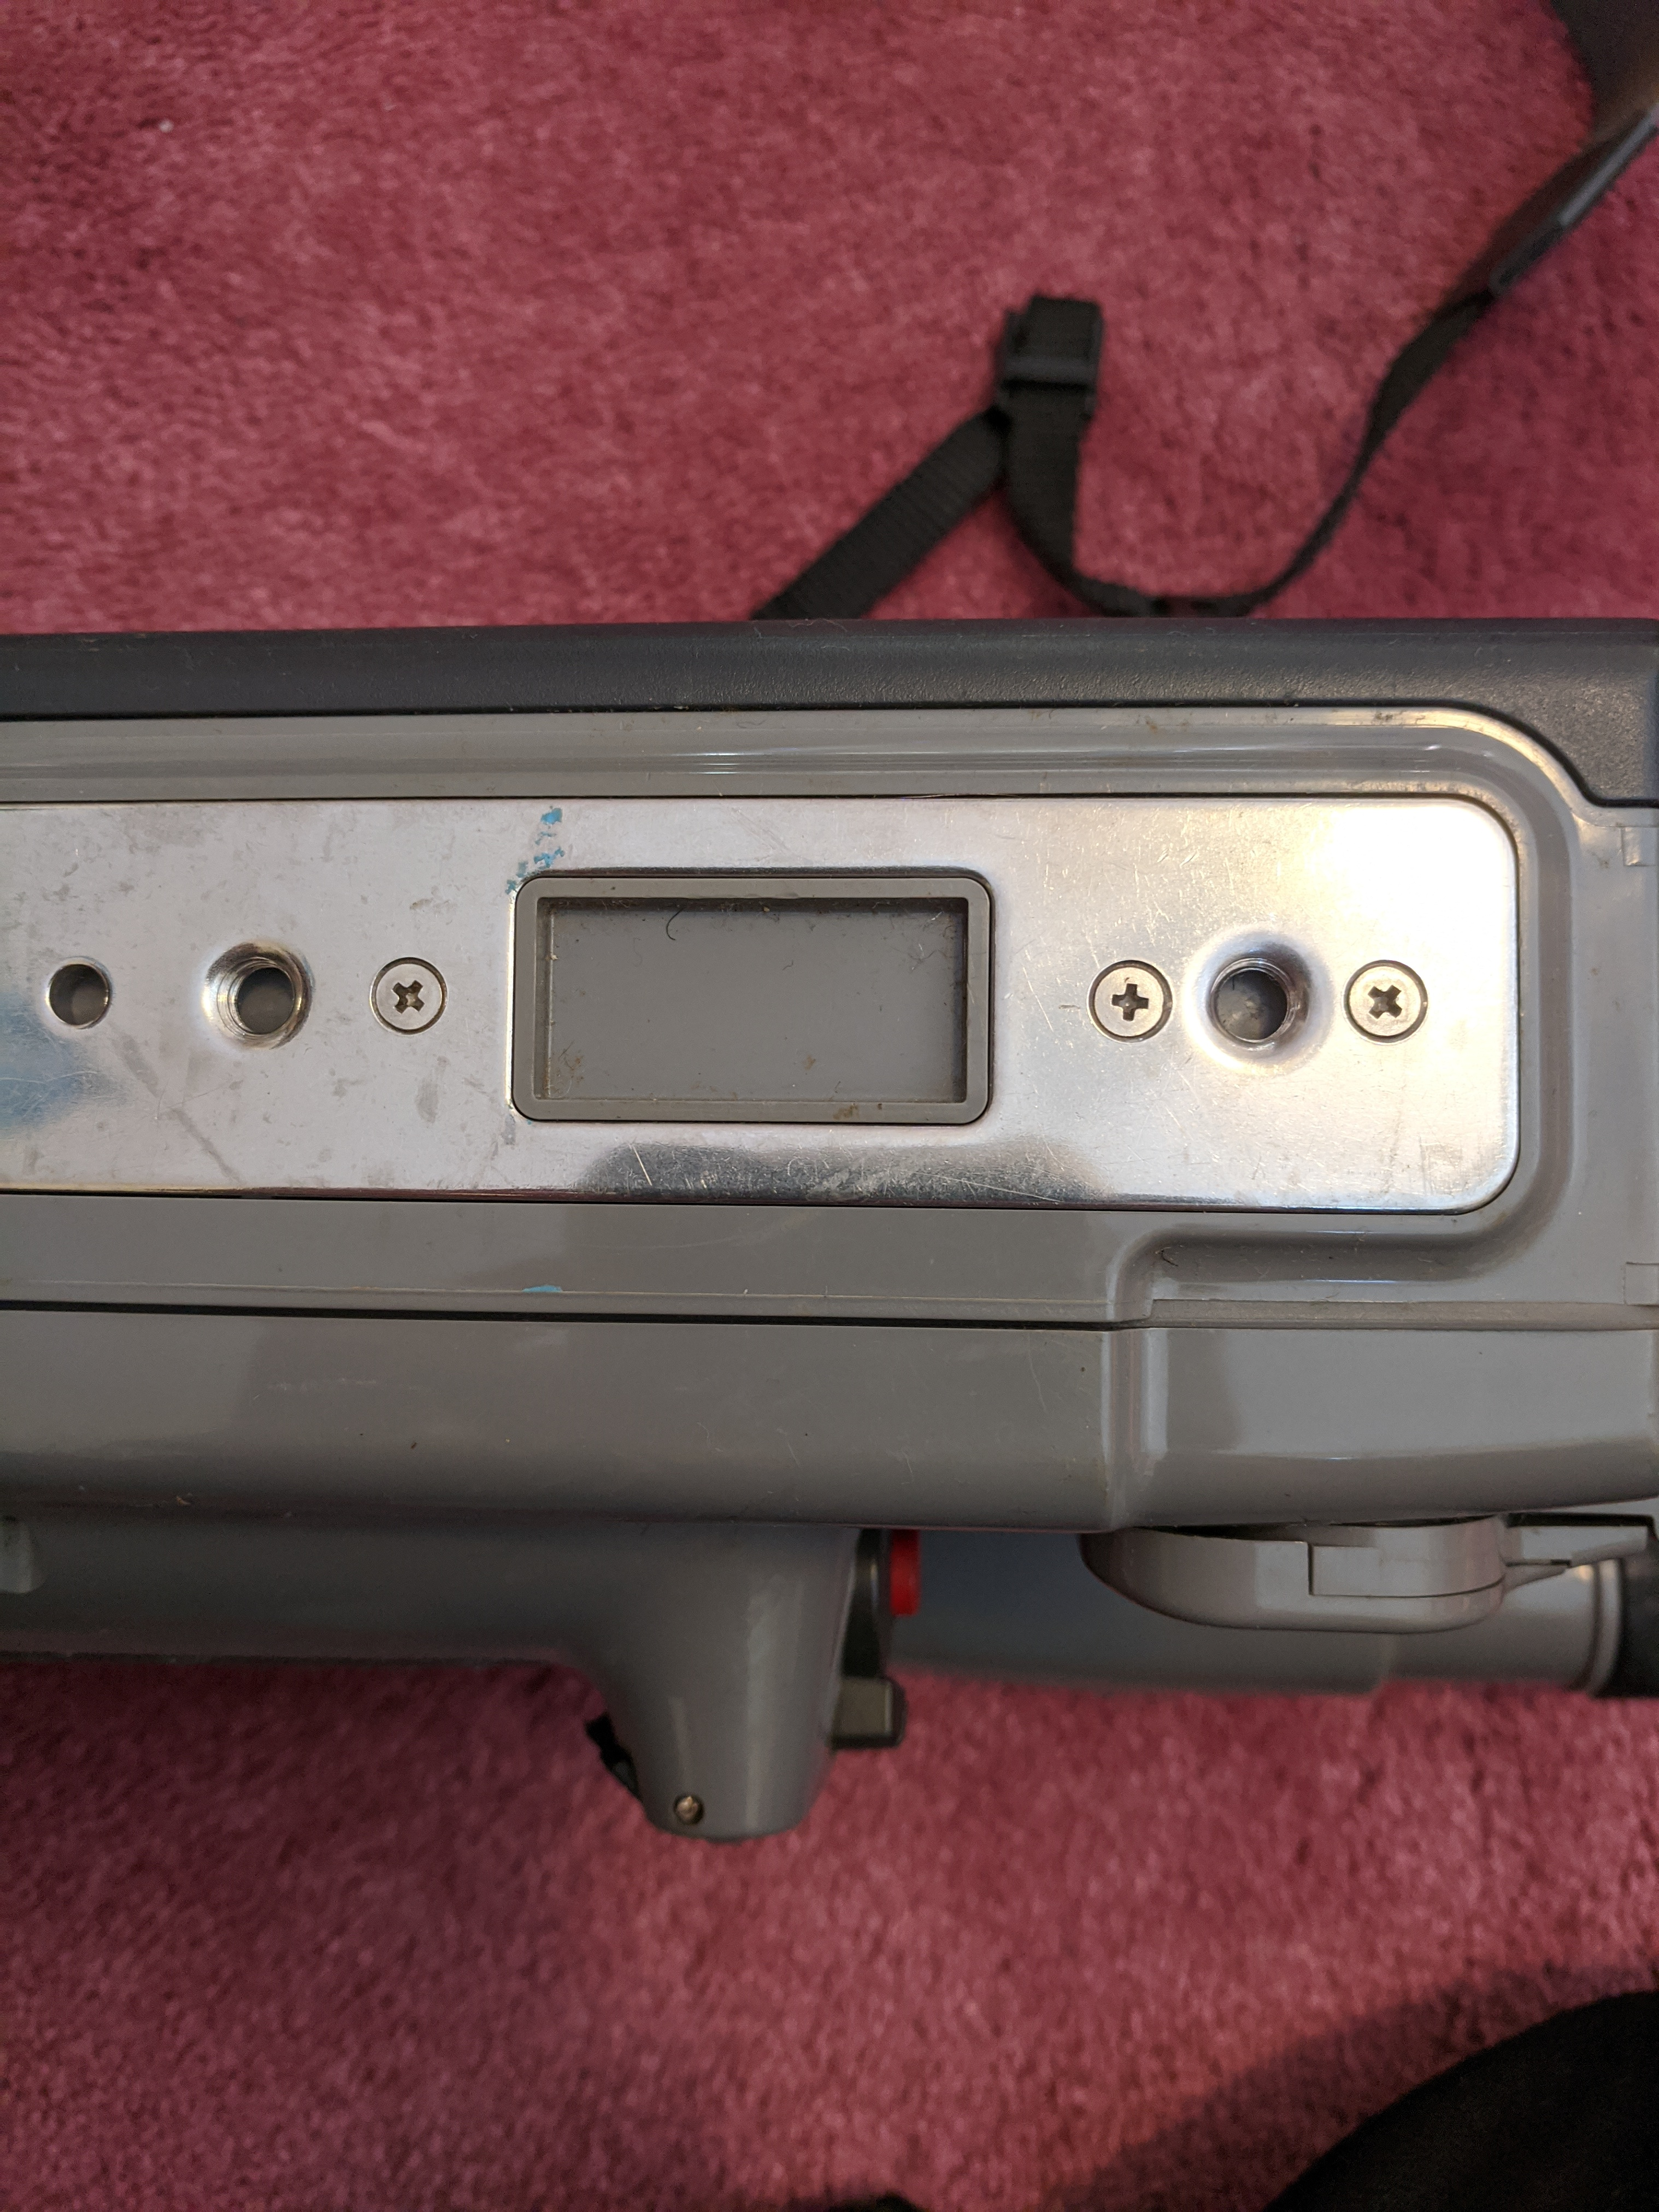cross_recessed_screw: (361, 951, 450, 1045), (1087, 951, 1173, 1049), (1345, 954, 1431, 1040)
